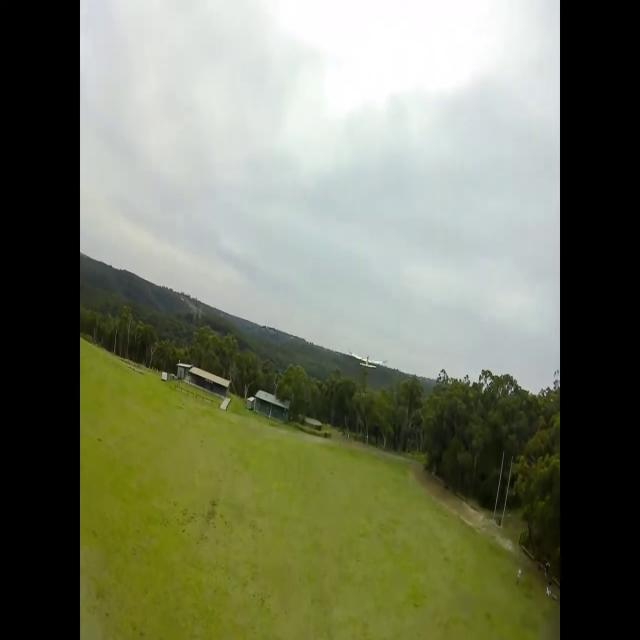iha: (349, 351, 387, 369)
